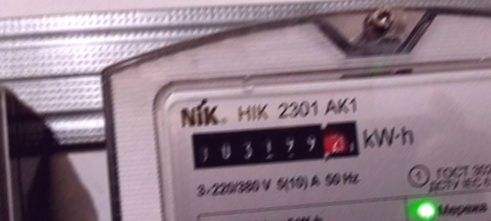0: (196, 141, 210, 164), (219, 139, 233, 160)
1: (263, 134, 275, 154)
3: (241, 139, 254, 159)
6: (331, 138, 342, 155)
9: (284, 132, 297, 153), (305, 131, 318, 152)
screen: (184, 109, 371, 184)
